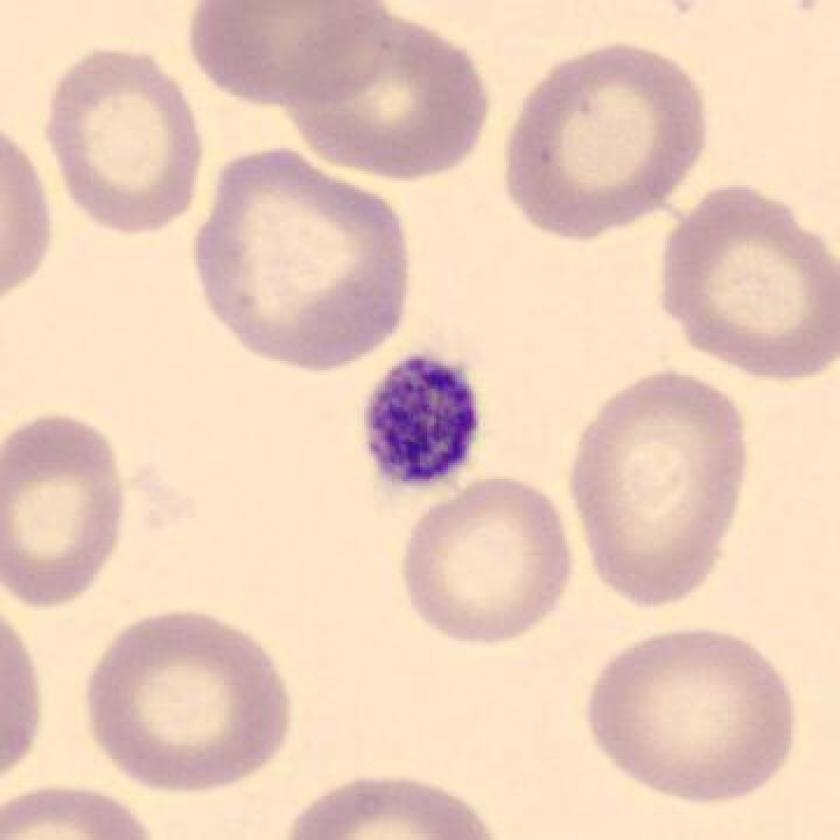platelets: (363, 351, 486, 492)
